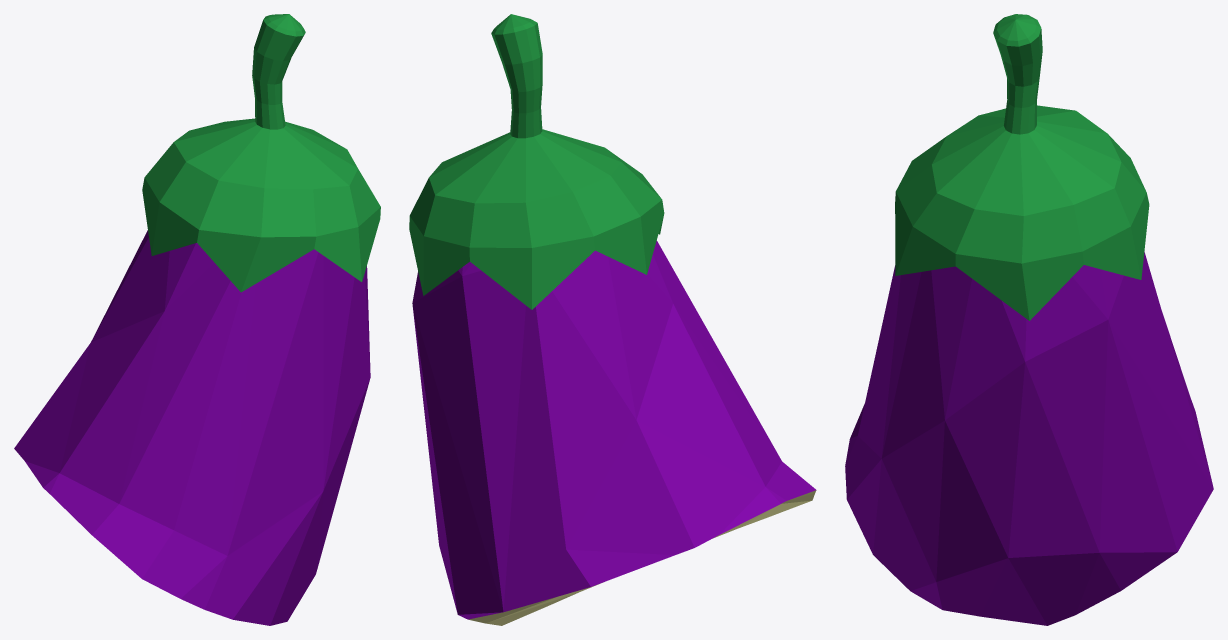
Rendered from Eggplant_1.fbx.
3 views of the same model, side by side, from view 1: azimuth 30°, elevation 25°; view 2: azimuth 150°, elevation 25°; view 3: azimuth 270°, elevation 25° (orthographic). The views are drawn at different scales.
Visible parts, largest first — view 1: Cylinder.004; view 2: Cylinder.004; view 3: Cylinder.004.
Boxes of the visible parts, box(x1,y1,x2,y2) form: Cylinder.004: box(14, 14, 380, 625); Cylinder.004: box(409, 14, 816, 625); Cylinder.004: box(845, 14, 1213, 625).
Bounding box in the file's own units: 210 × 383 × 234.
